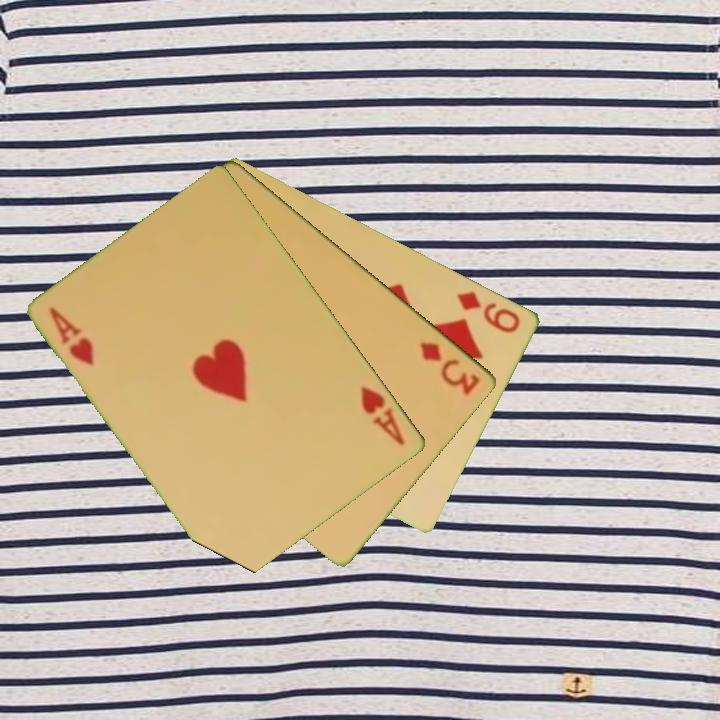3d: (417, 338, 484, 398)
9d: (454, 287, 524, 336)
Ah: (357, 382, 409, 449), (46, 303, 98, 369)
